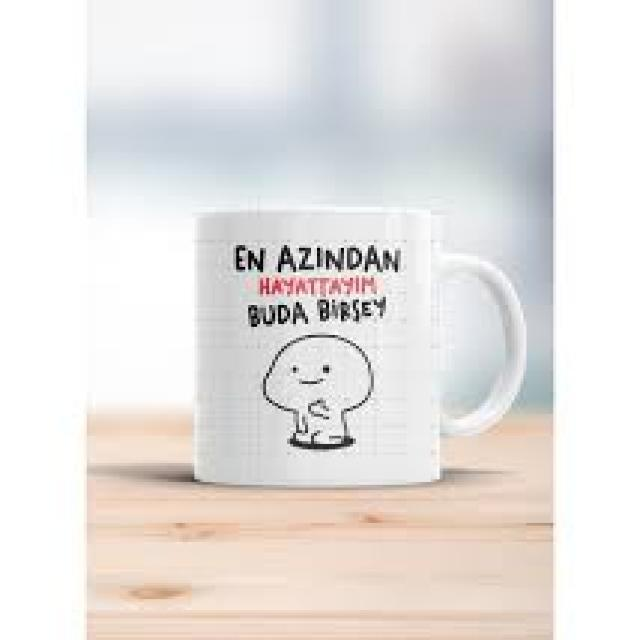taza: (193, 204, 526, 488)
